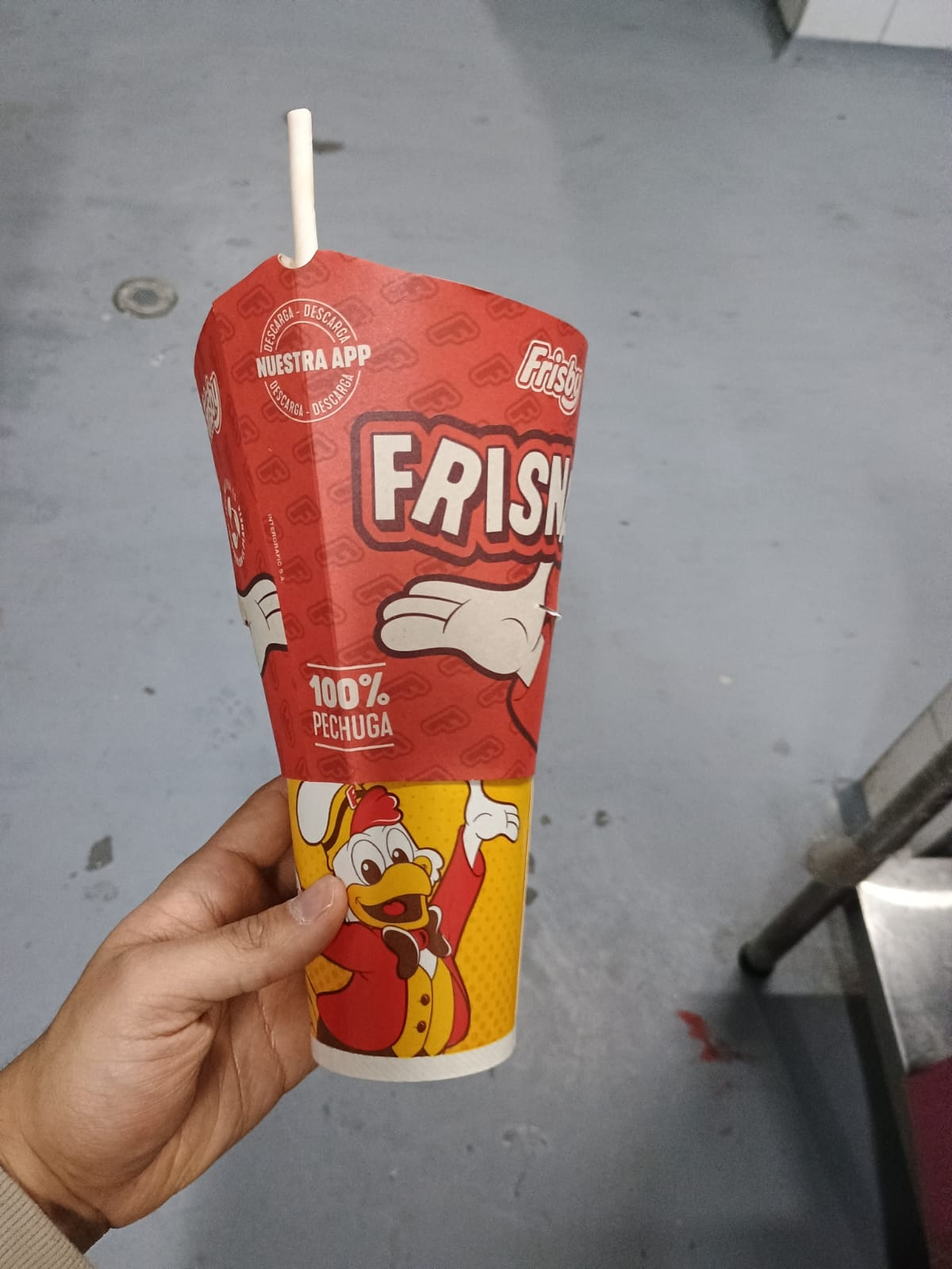Carton: (198, 257, 586, 1083)
